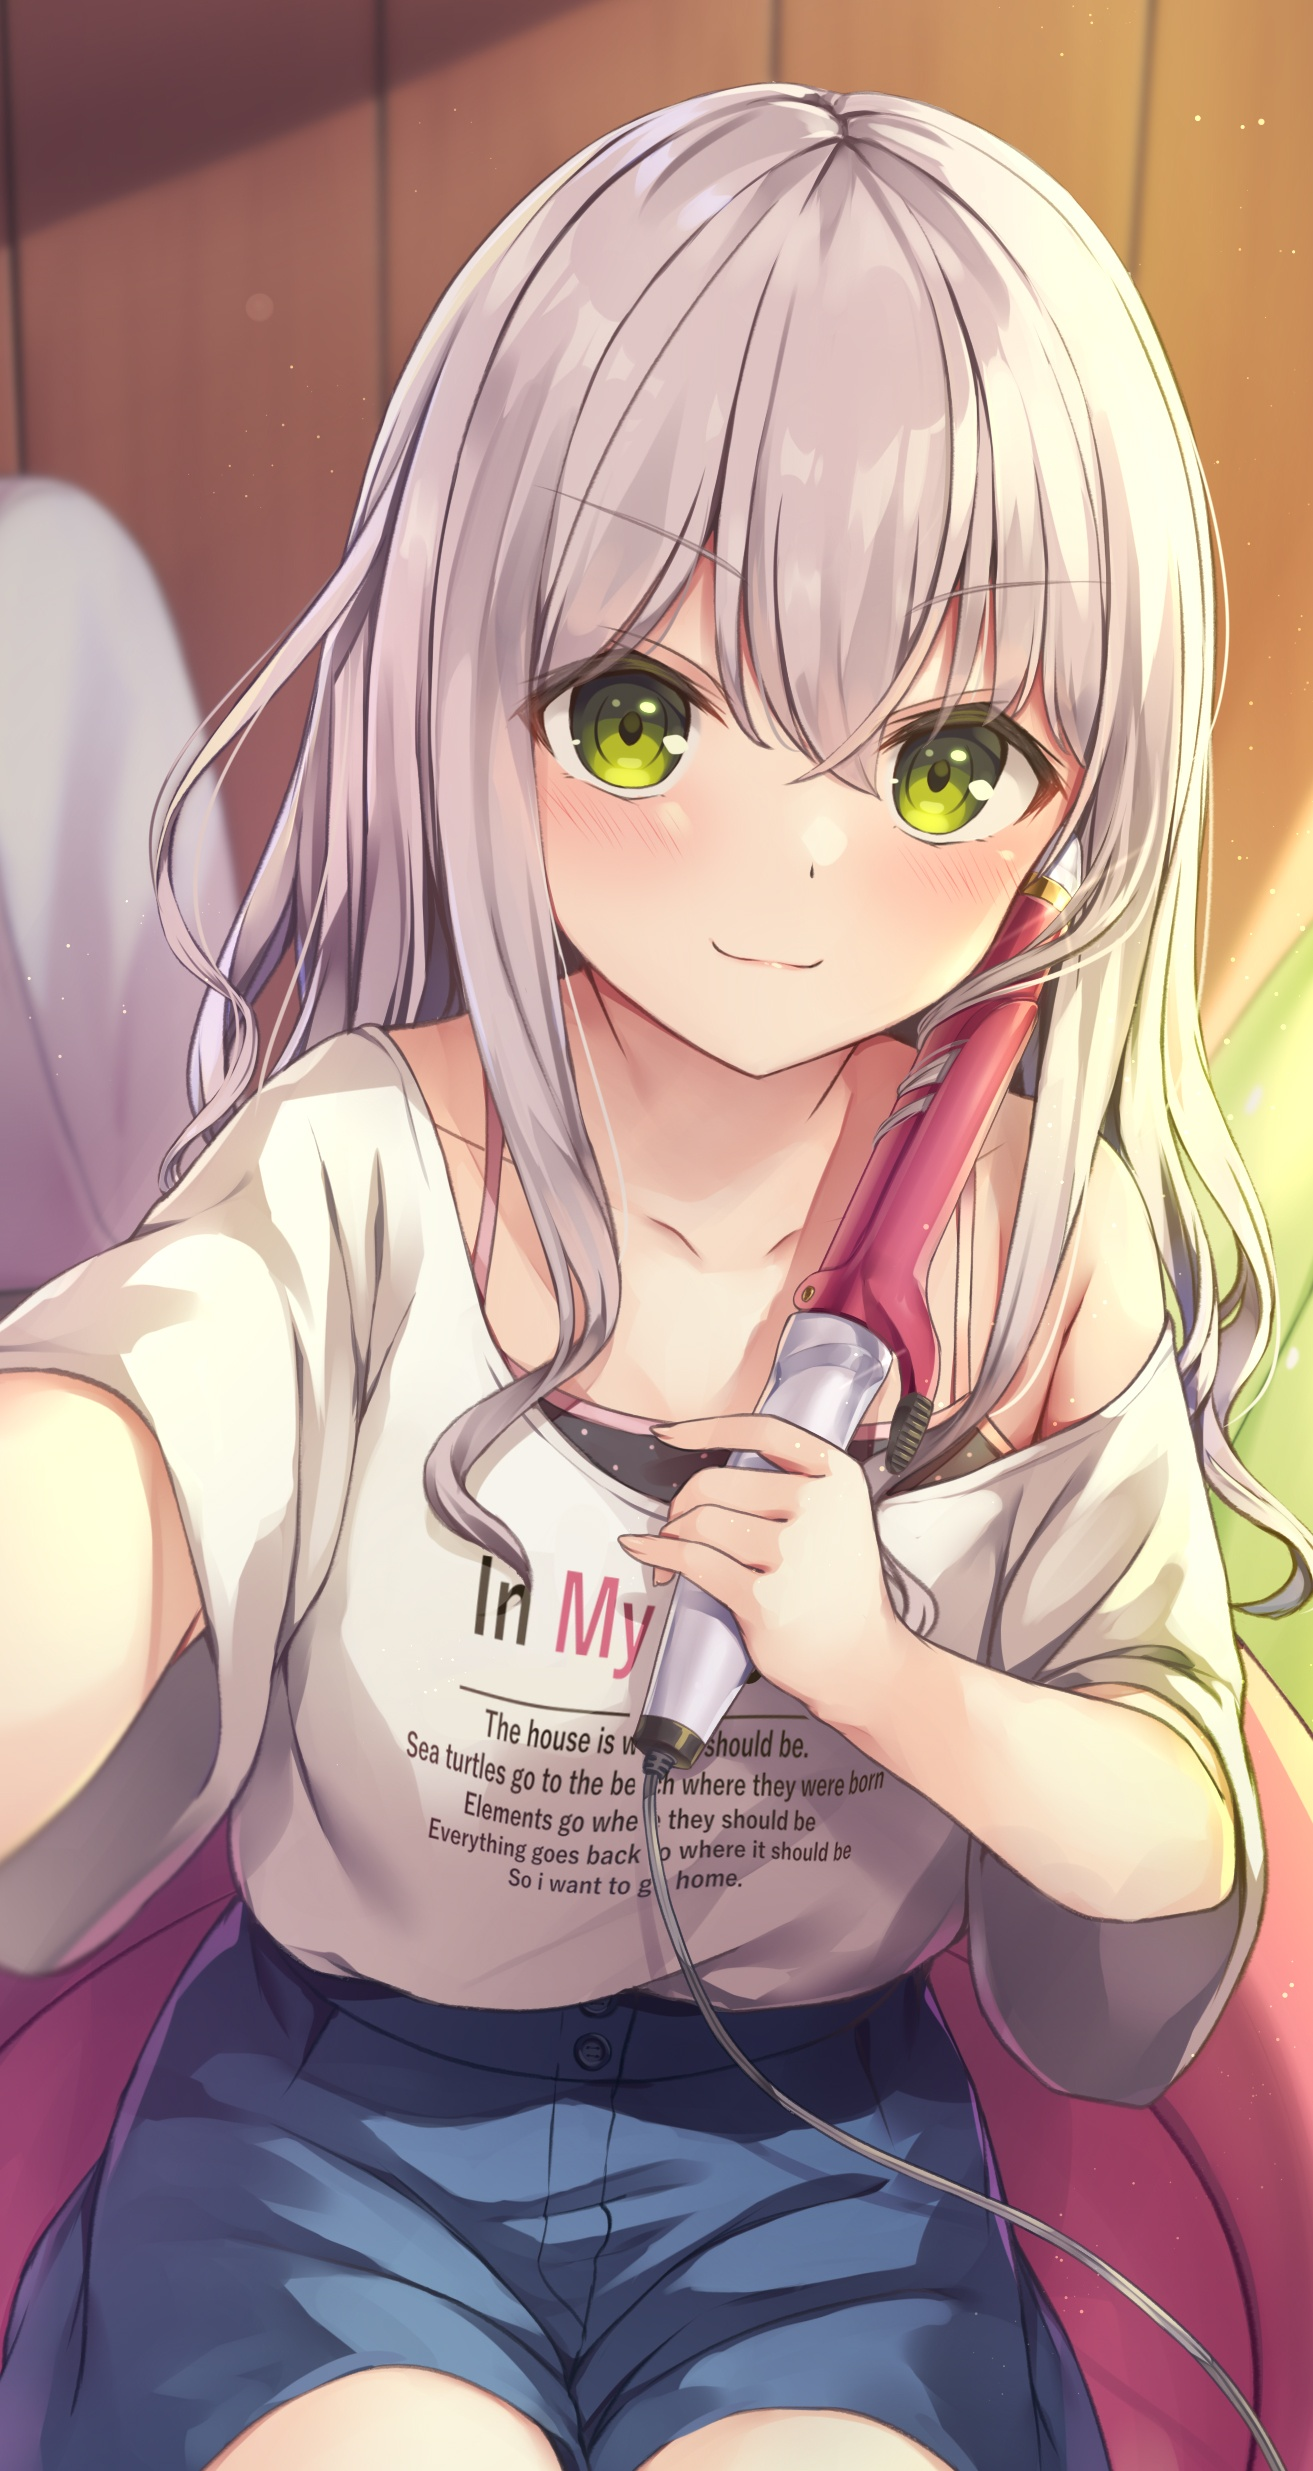纸片人正脸: (357, 78, 1212, 1110)
